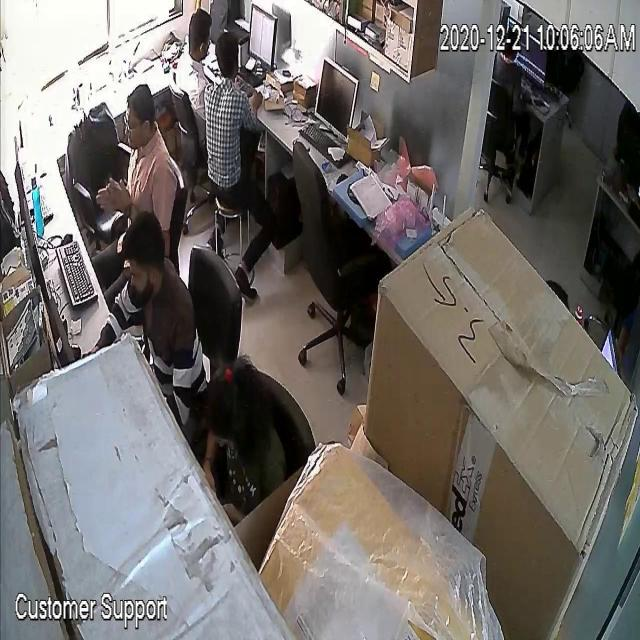chair: (288, 143, 374, 390), (61, 100, 130, 210), (188, 235, 244, 358), (169, 71, 209, 237), (587, 238, 640, 358), (260, 364, 314, 465), (483, 76, 515, 210)
keyboard: (58, 233, 98, 315), (301, 118, 351, 169), (237, 69, 256, 96)
monitor: (314, 54, 361, 137), (21, 207, 46, 294), (248, 2, 278, 73), (46, 293, 74, 367), (519, 27, 549, 87), (10, 137, 28, 205), (598, 330, 620, 377)
person: (106, 207, 206, 412), (206, 28, 276, 306), (90, 82, 174, 276), (200, 356, 286, 518), (180, 4, 210, 108), (495, 21, 523, 95)
